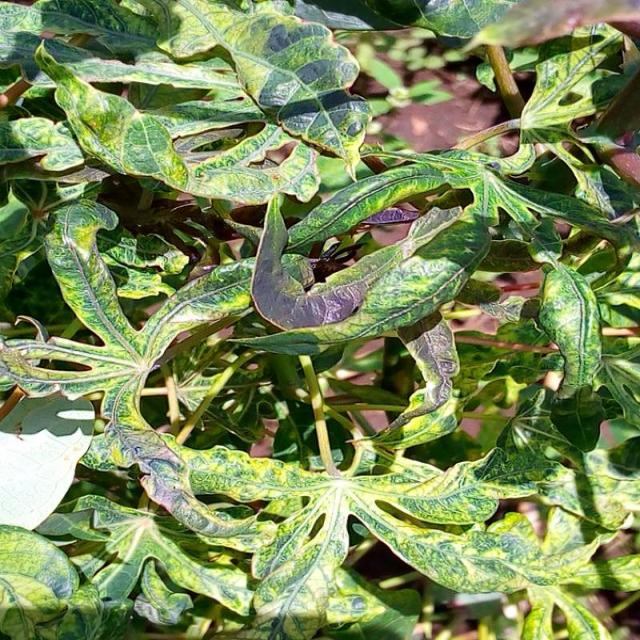cassava leaf: (2, 1, 639, 638), (3, 0, 373, 207)
